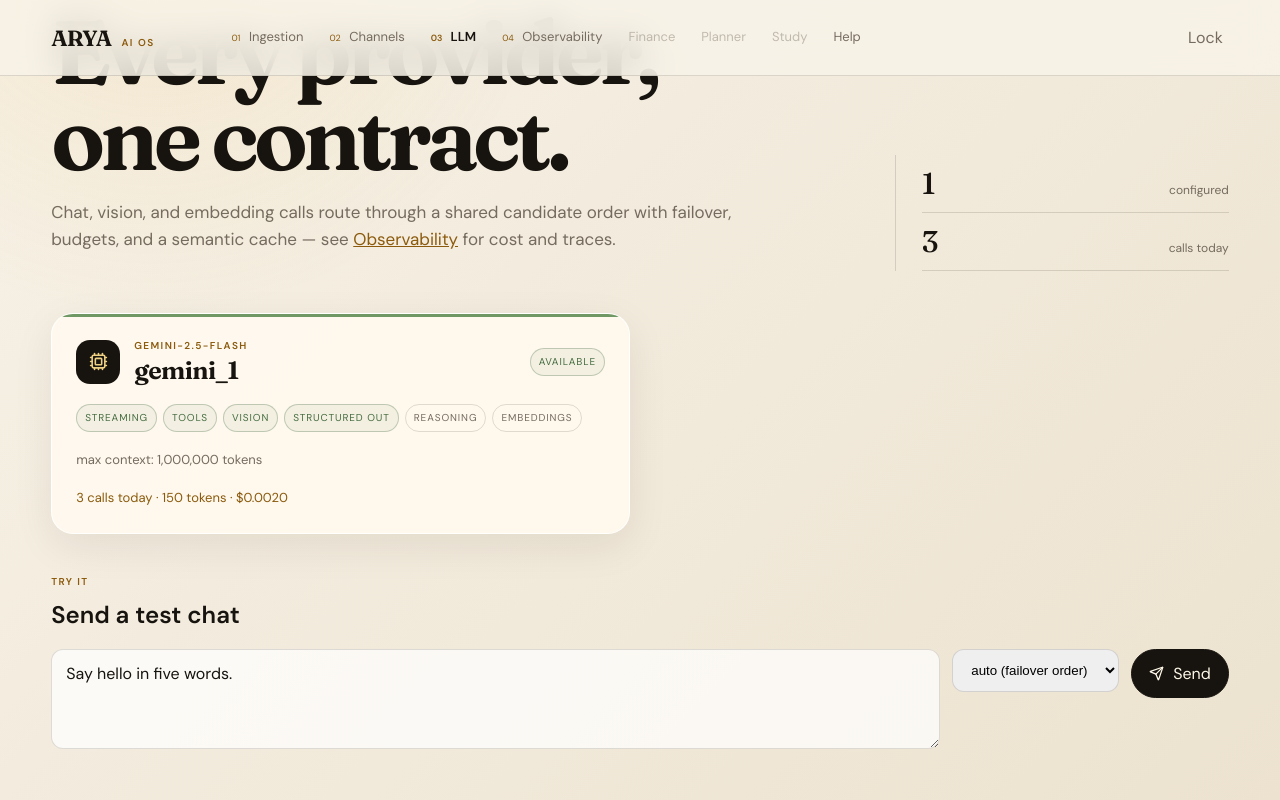
Test: LLM dashboard › shows configured providers and sends a test chat with the chosen provider
(page scrolled)
Expected: the heading "gemini_1" is shown, [134,355,239,385]
Expected: the text "3 calls today · 150 tokens · $0.0020" is shown, [76,489,288,506]
Step 1. Click the button "Send" → (1180, 673), box [1131,648,1229,698]
(page scrolled)
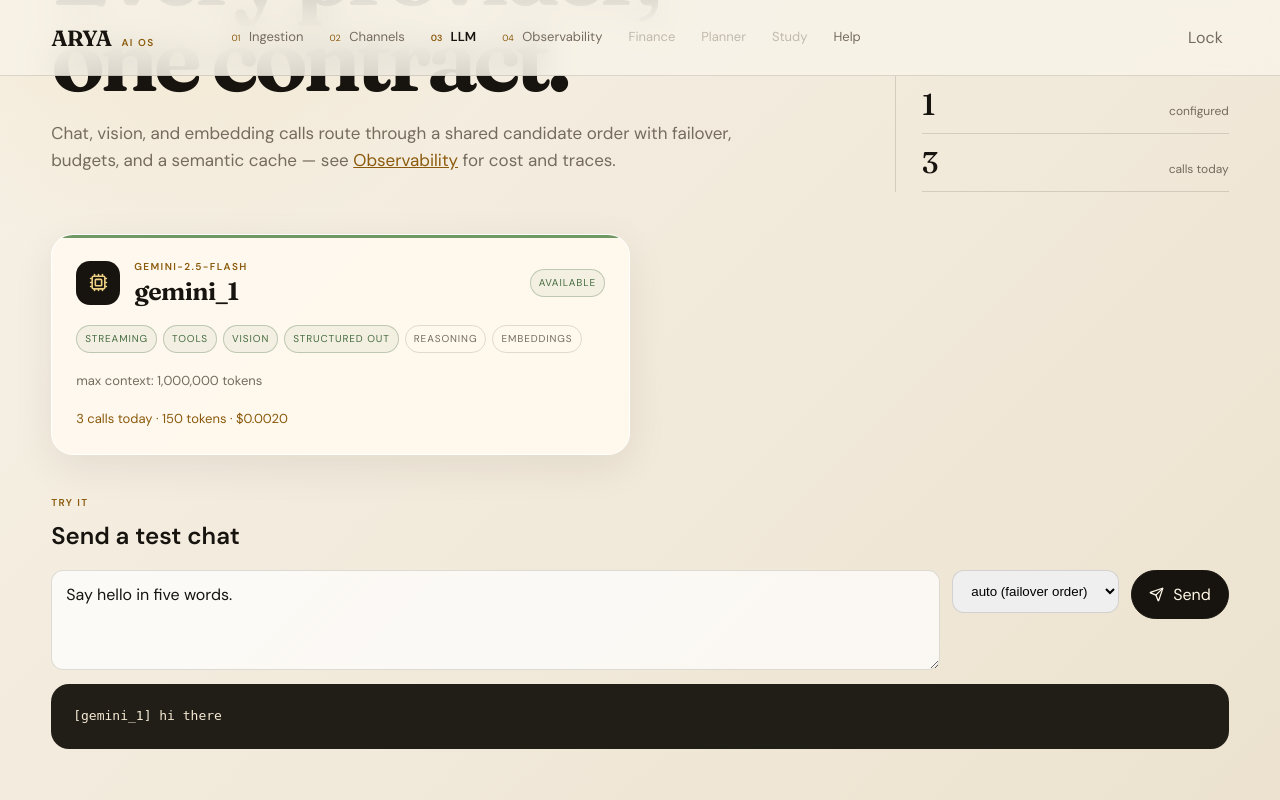
Result: the text "[gemini_1] hi there" is shown at [73,708,222,723]
